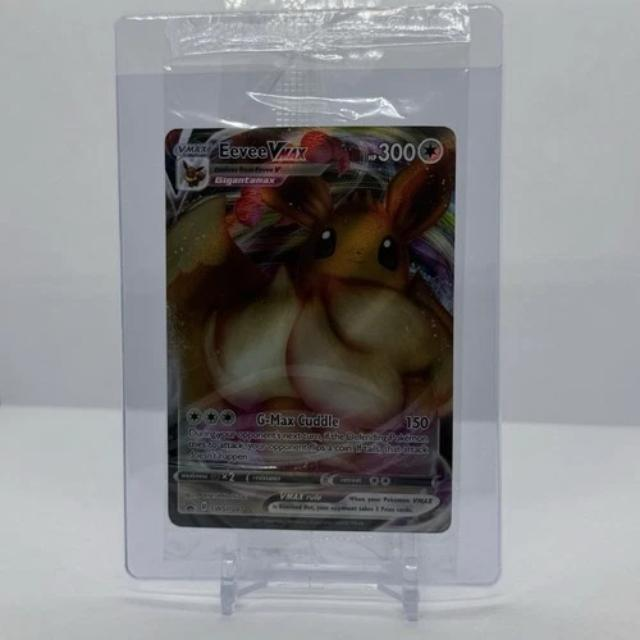Card: (157, 119, 456, 539)
Name: (212, 134, 312, 164)
